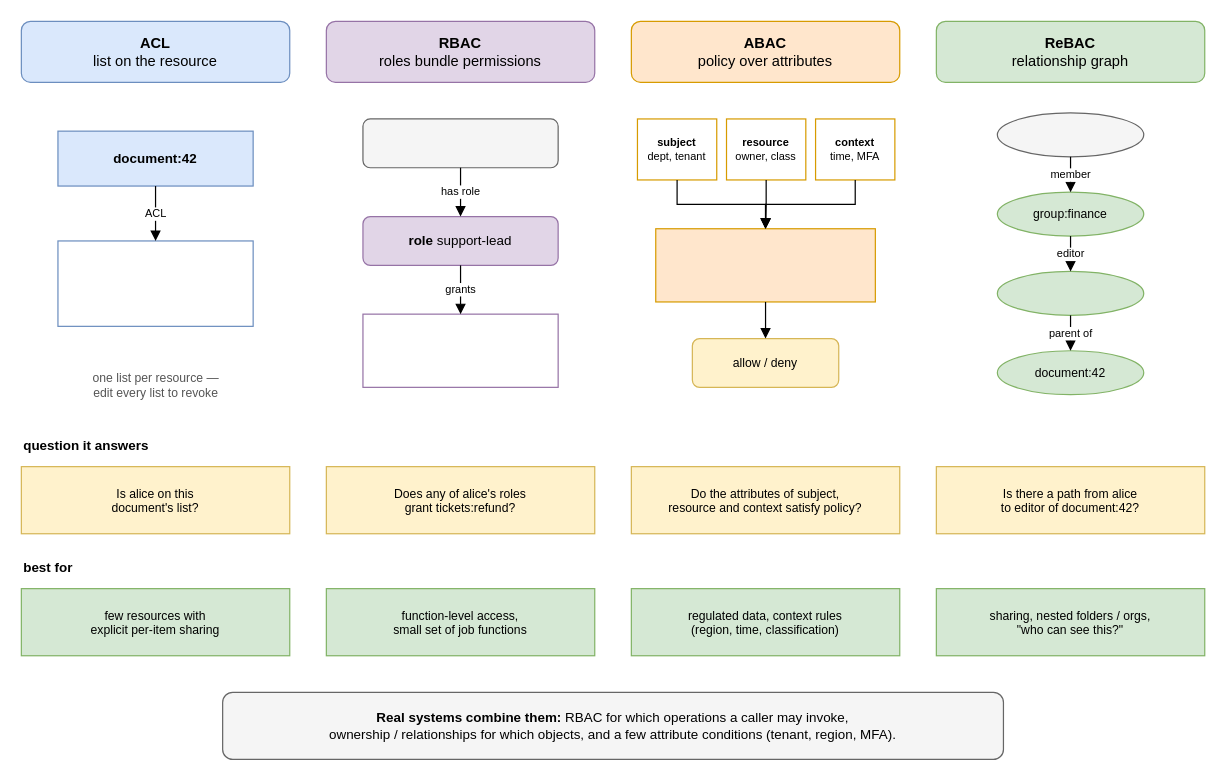
The diagram is 1226 pixels wide and 781 high, and some of its shapes have lost their labels. Here are the shapes that lost their labels. From the top down, the centre of each, then its label:
At [460,143]: "user alice".
At [1070,134]: "user:alice".
At [155,283]: "alice → read, write bob → read carol → read".
At [765,265]: "policy subject.tenant == resource.tenant and MFA < 15 min".
At [1070,292]: "folder:reports".
At [460,350]: "tickets:read tickets:reply tickets:refund".
